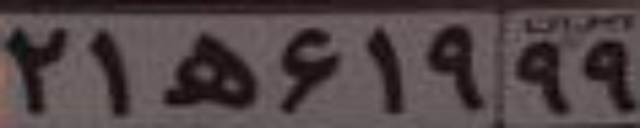1: (84, 30, 133, 114), (368, 28, 410, 114)
2: (6, 25, 70, 111)
6: (279, 28, 343, 113)
9: (426, 24, 482, 109), (514, 44, 571, 112), (583, 42, 638, 112)
he: (162, 32, 259, 109)
